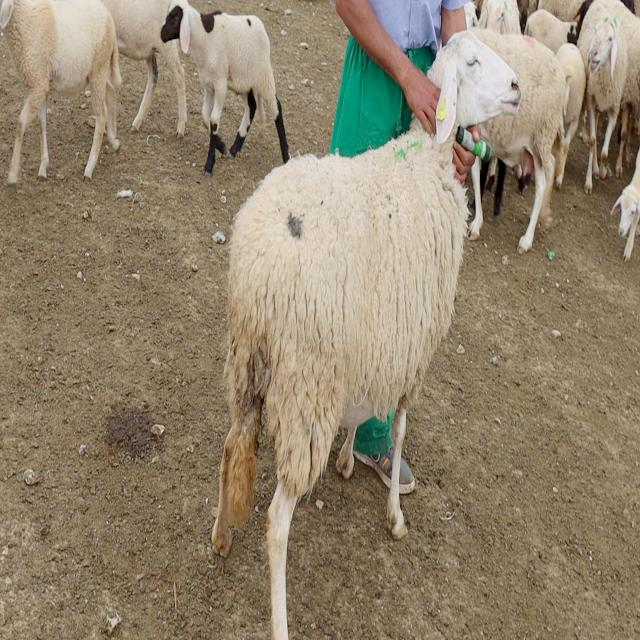Score_5: (211, 31, 521, 639)
